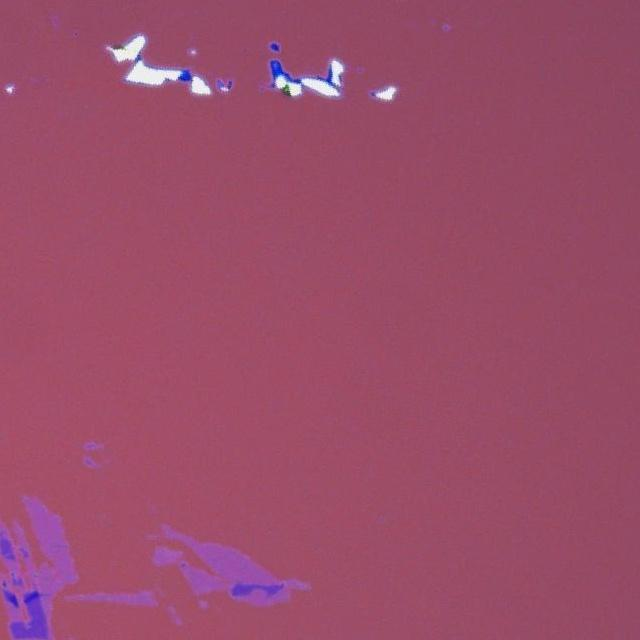monolayer-eWW4: (146, 518, 278, 586), (19, 493, 80, 615), (60, 587, 158, 611), (176, 558, 230, 594), (240, 591, 292, 609)
